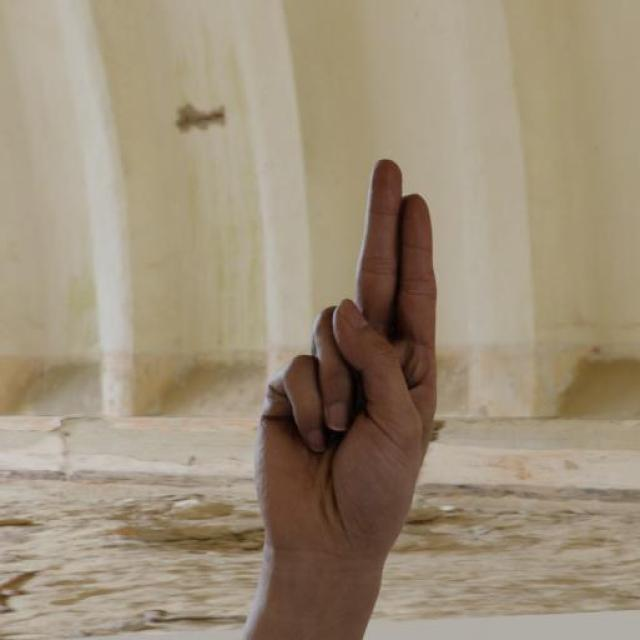U: (221, 134, 460, 617)
